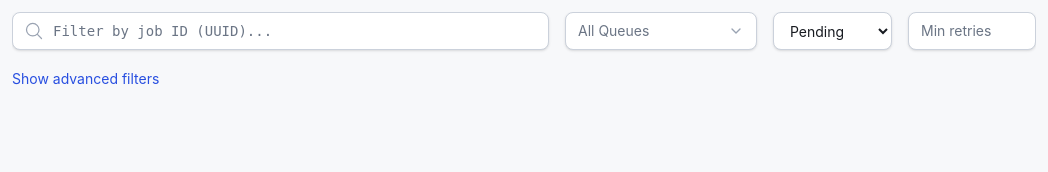
Test: JobsFilterBar › normalizes a min retries of 0 to no filter
The image size is (1048, 172).
Type "0" into the number field named "Minimum retries" at (972, 31), box [908,12,1036,50]
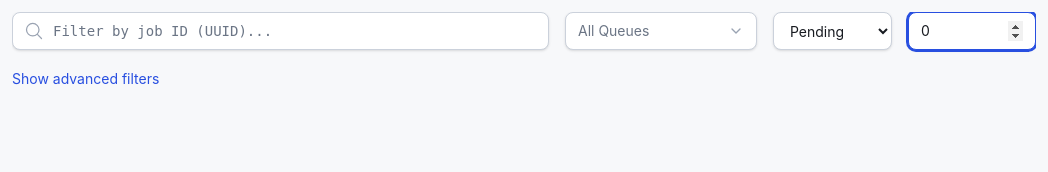
Press Enter
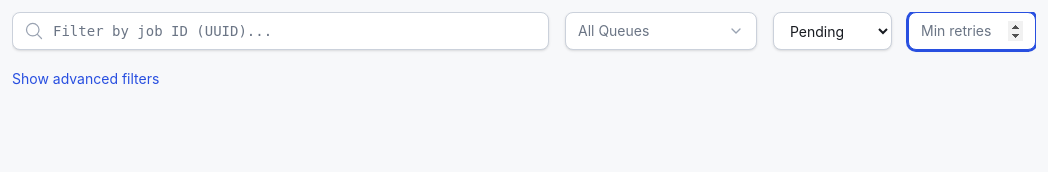
Expected: the number field named "Minimum retries" is not empty, [908,12,1036,50]
